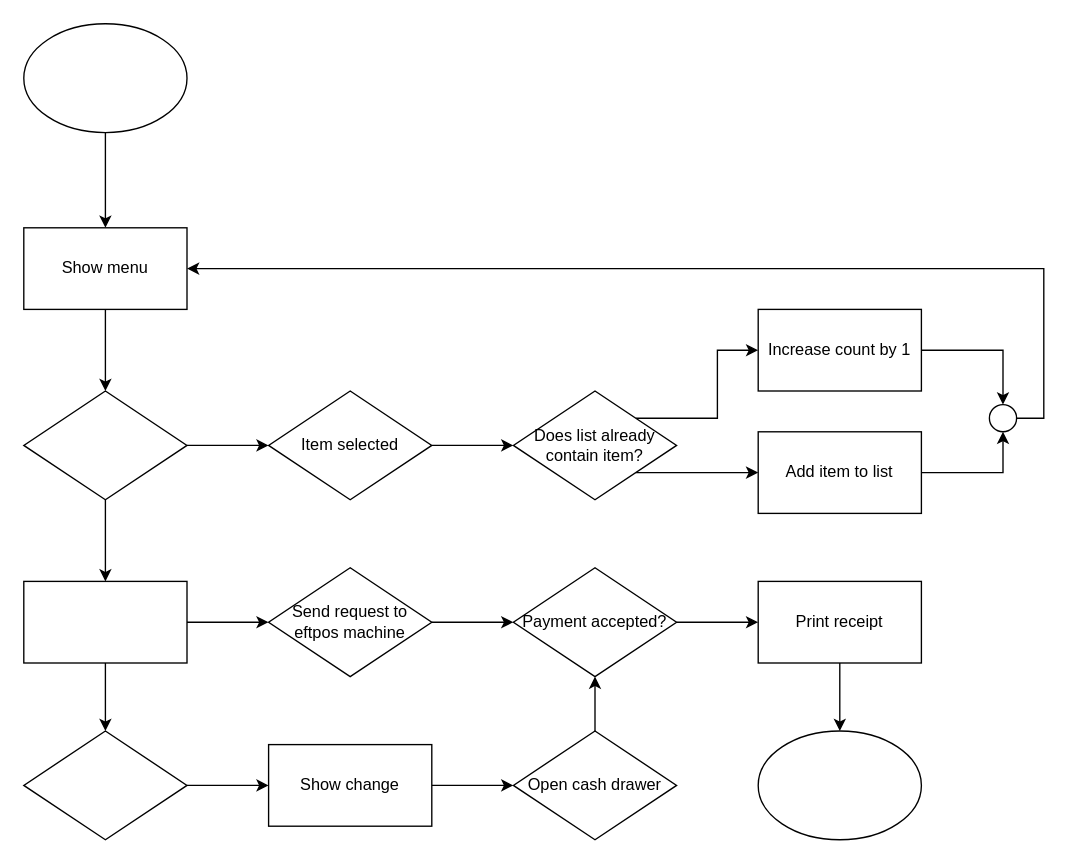
This 1078x864 diagram has some shape labels left out. Each missing label, with the centre of its shape:
Cash or card?: the point at 104,621
End: the point at 839,785
Has payment been selected: the point at 104,445
How much cash?: the point at 104,785
Start: the point at 104,77
